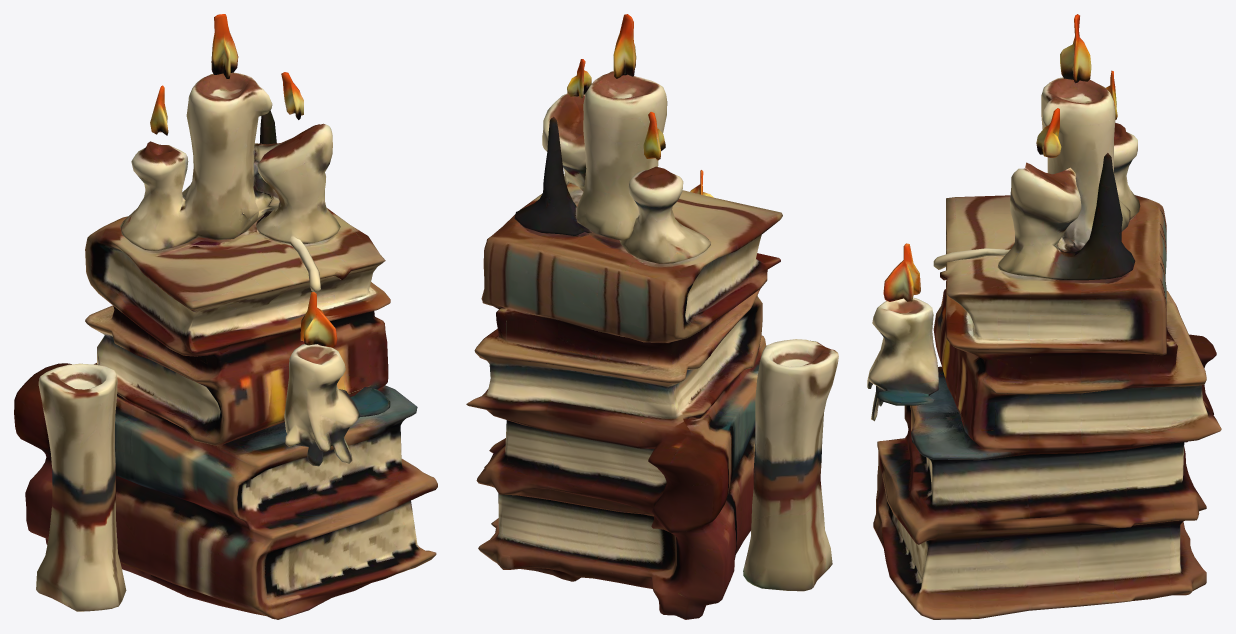
Rendered from candlelit-tome-tower.glb.
3 views of the same model, side by side, from view 1: azimuth 30°, elevation 25°; view 2: azimuth 150°, elevation 25°; view 3: azimuth 270°, elevation 25° (orthographic). The views are drawn at different scales.
Size of the model in its own units: 1.22 by 1.91 by 1.11.
1 material, 1 textured.
